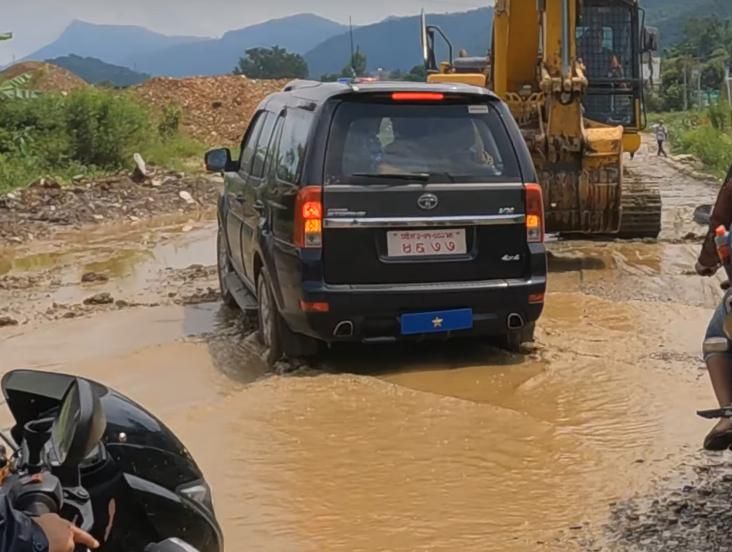SUV: (187, 59, 569, 375)
